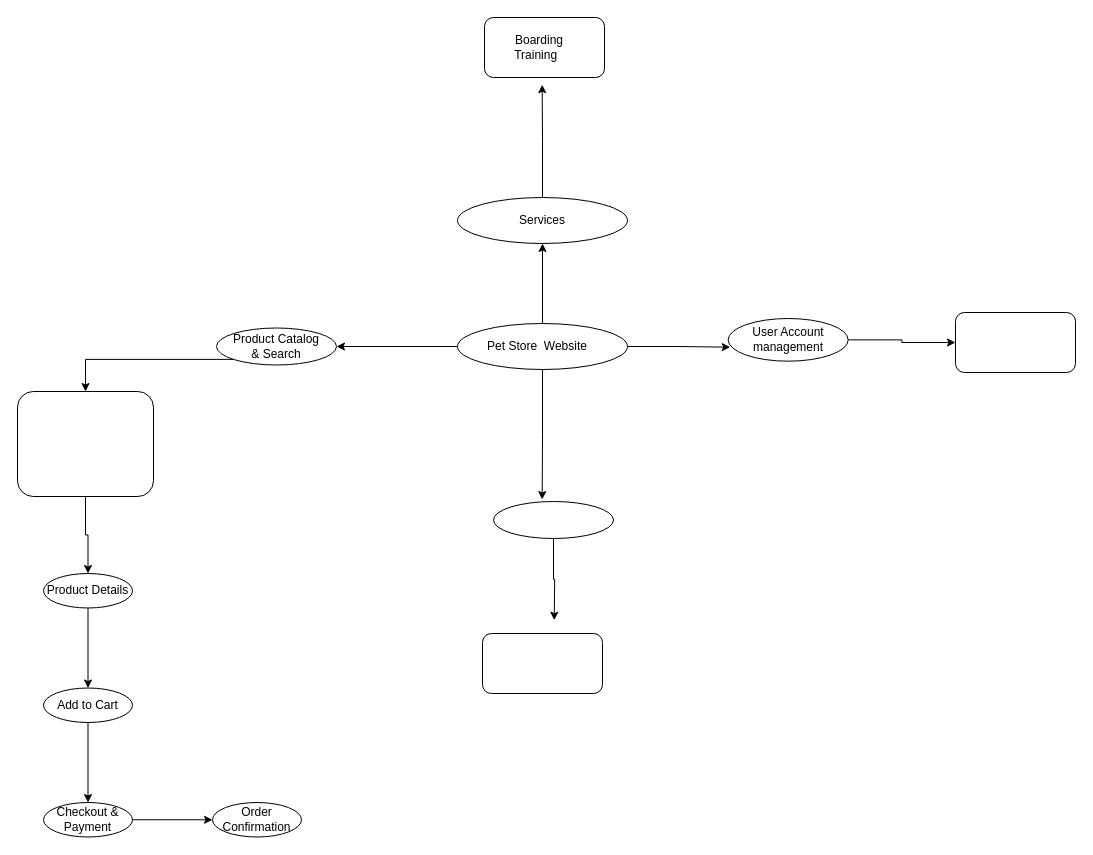
Some shapes in this 1093 by 855 pixel diagram are drawn without their labels. Each missing label, with the centre of its shape:
"Add / Remove Items Save for Later View Cart" goes at (542,663).
"Browse by Category Search Filters Product Details Product Images Product Reviews" goes at (85,443).
"Shop Cart & Wishlist" goes at (553,519).
"Sign Up / Log In Profile Edit Account Order History" goes at (1015,342).
